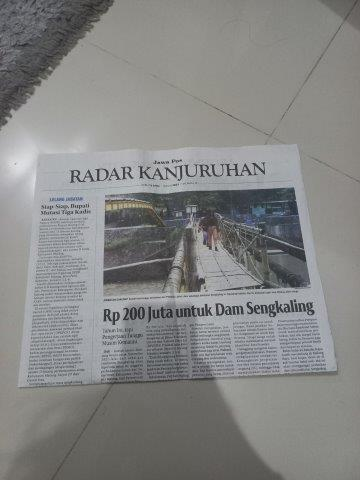kertas: (17, 143, 340, 386)
